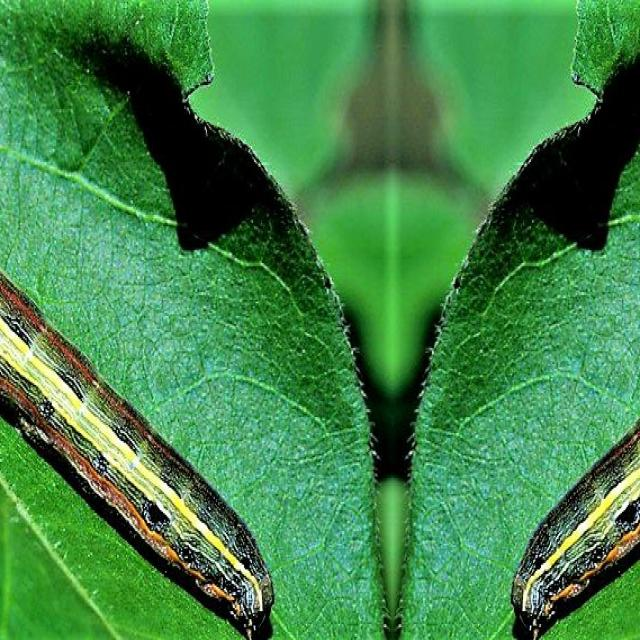Armyworm: (5, 281, 279, 640), (478, 392, 640, 636)
